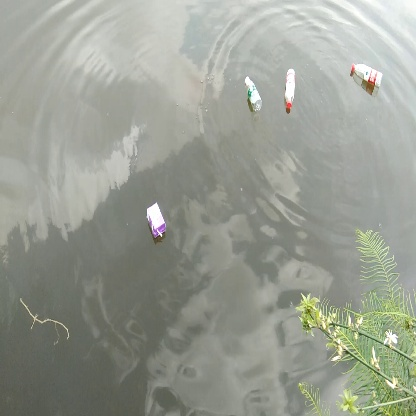bottle: (241, 72, 267, 117), (347, 60, 383, 89), (282, 68, 300, 114)
milk-box: (142, 200, 174, 245)
